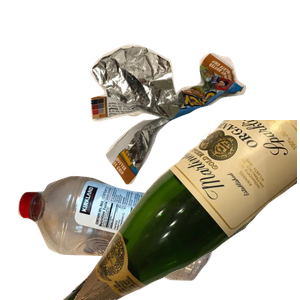glass: (60, 120, 300, 300)
metal: (102, 60, 252, 169)
plastic: (15, 173, 222, 300)
trash: (88, 42, 300, 219)
